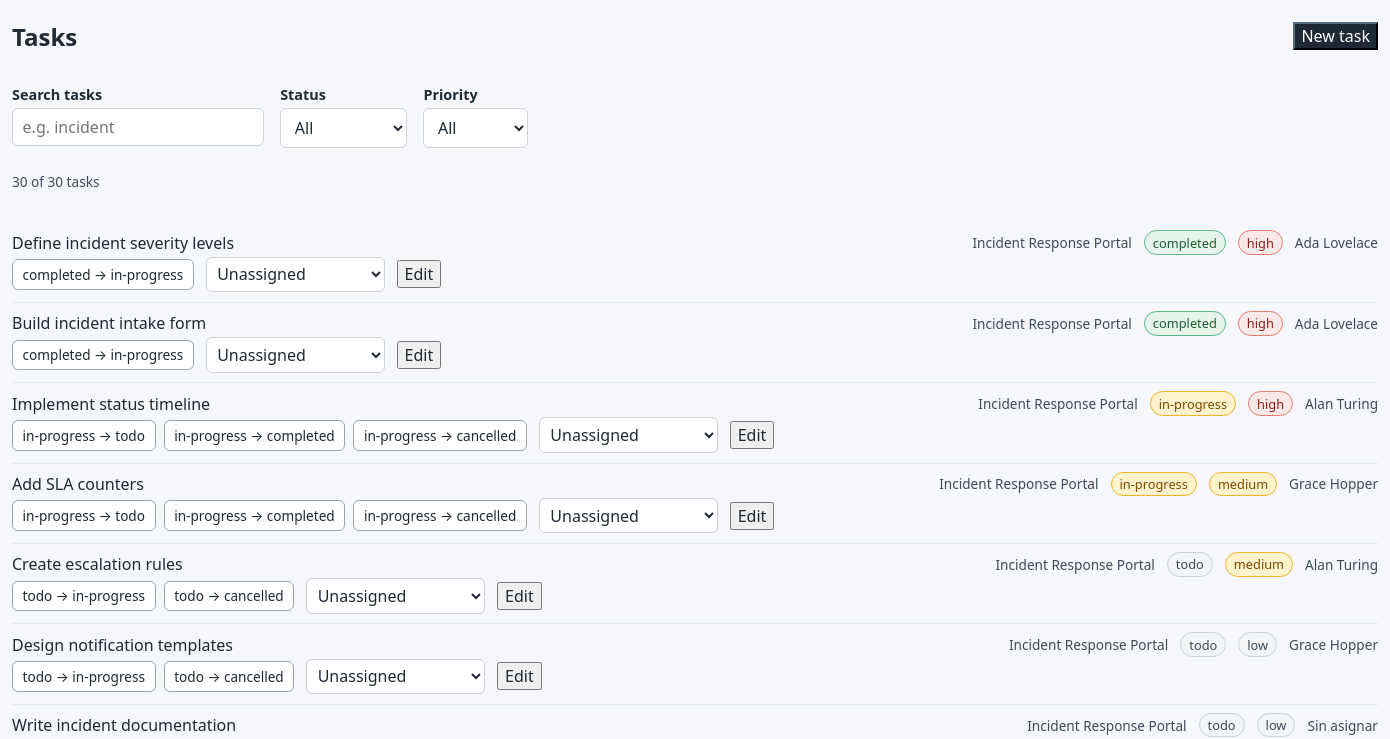
Test case: TasksComponent › edits a task in any status (TSK-EDIT)
Step 1. Click the button with class "edit-task" below "Define incident severity levels" → (419, 274), box [396,260,441,288]
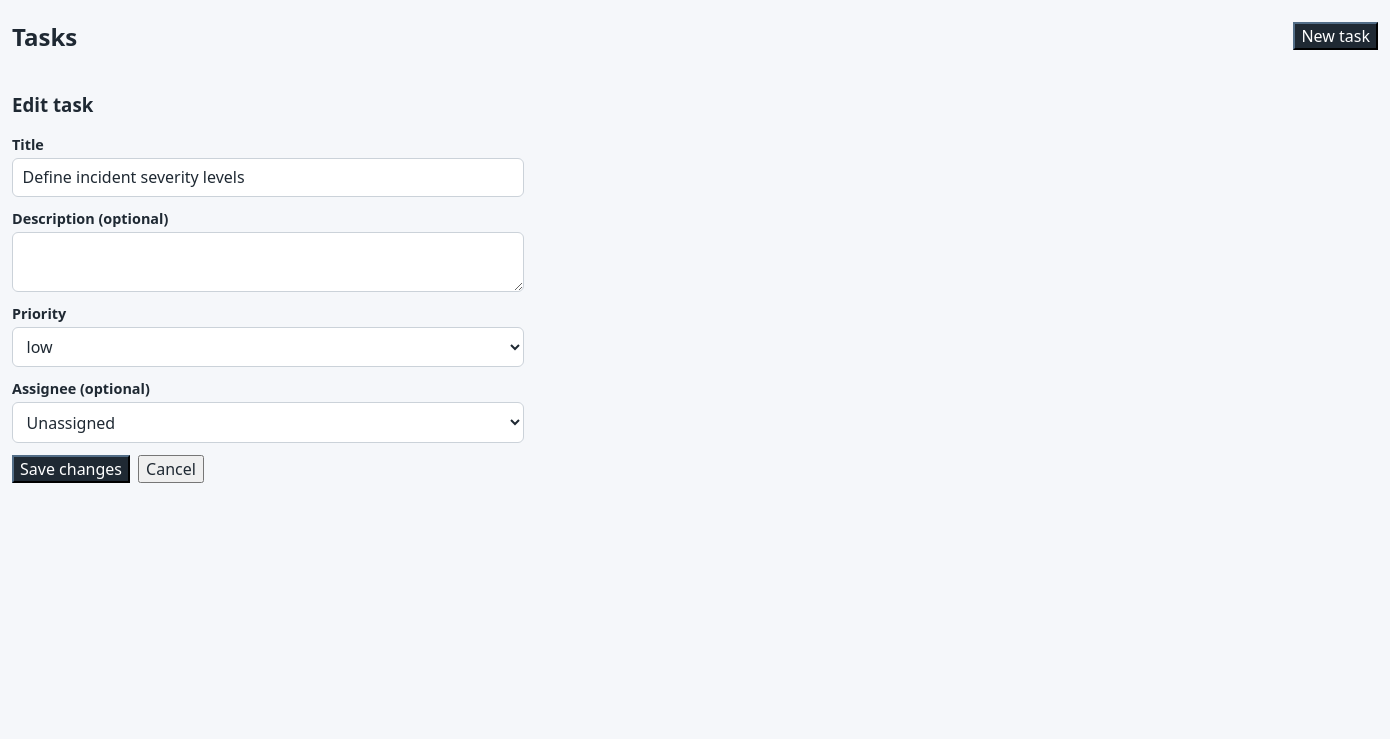
Step 2. Replace the text in the field with id "task-title" with "Renamed completed task" → (268, 178), box [12,158,524,197]
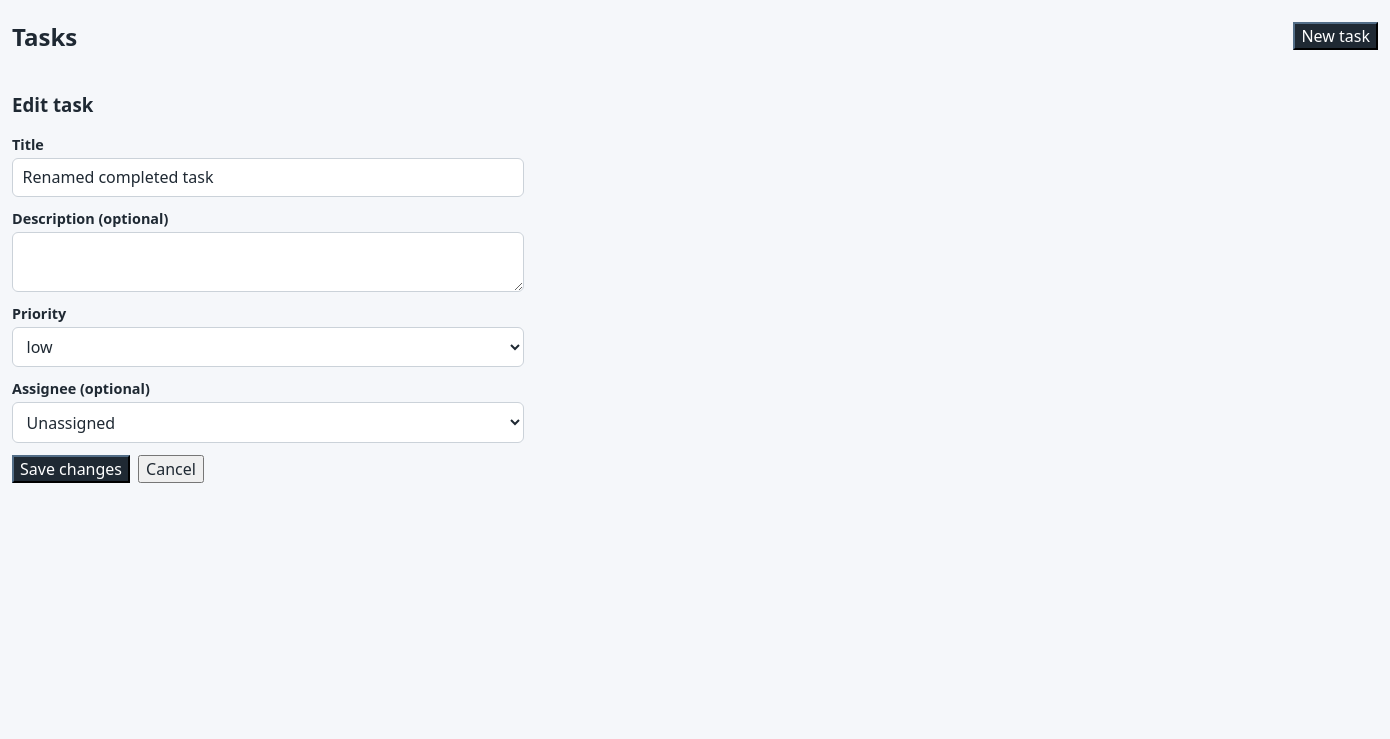
Step 3. Submit the form, box [12,92,524,483]
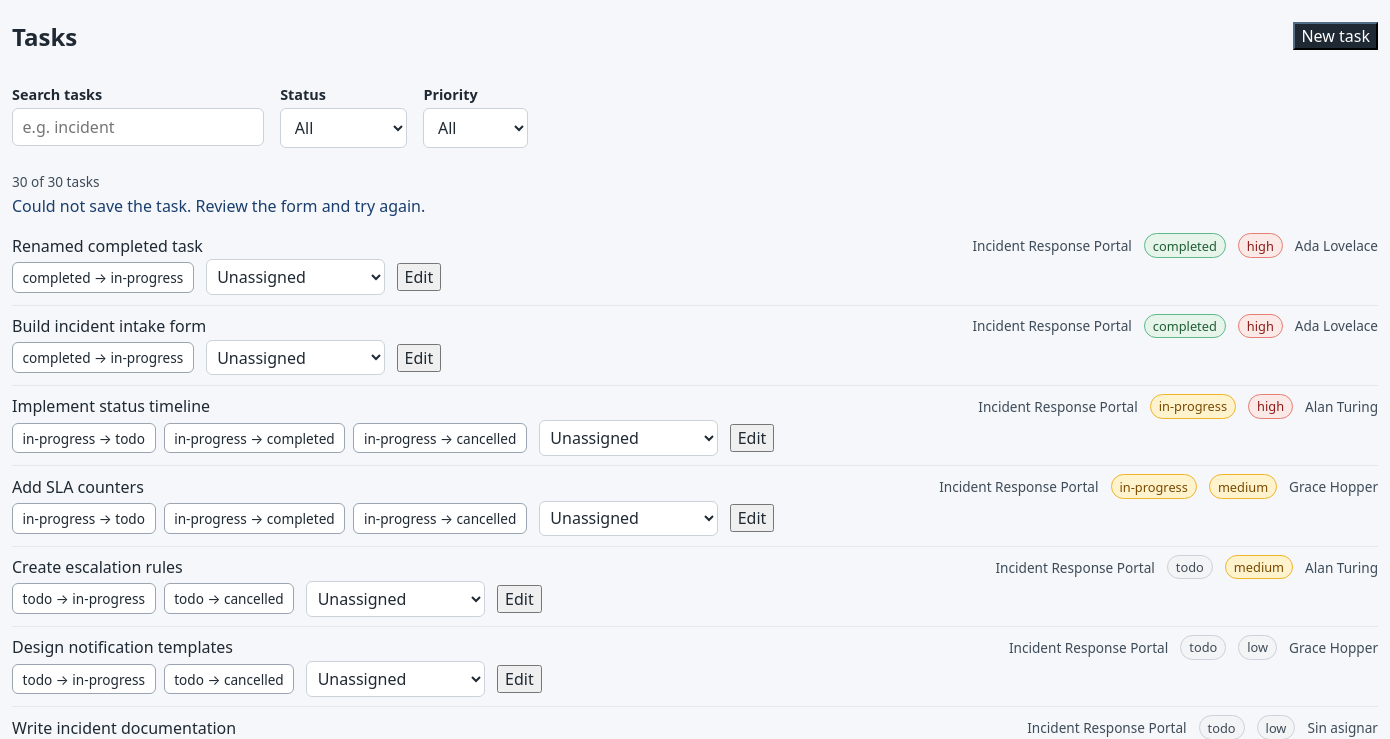
Check: the text "Renamed completed task" is shown, box [12,235,203,257]
Check: the text "completed" in the row of "Renamed completed task" reads "completed", box [1153,237,1217,255]
